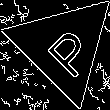P_NW: (32, 15, 95, 78)
